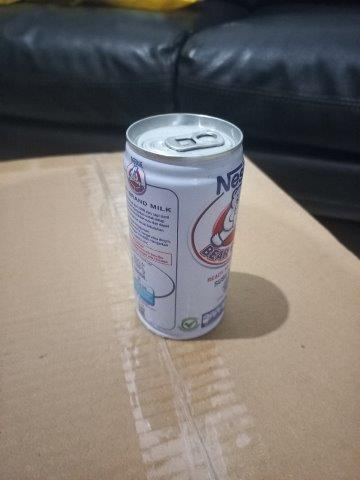kaleng: (124, 112, 244, 339)
kardus: (1, 141, 360, 480)
